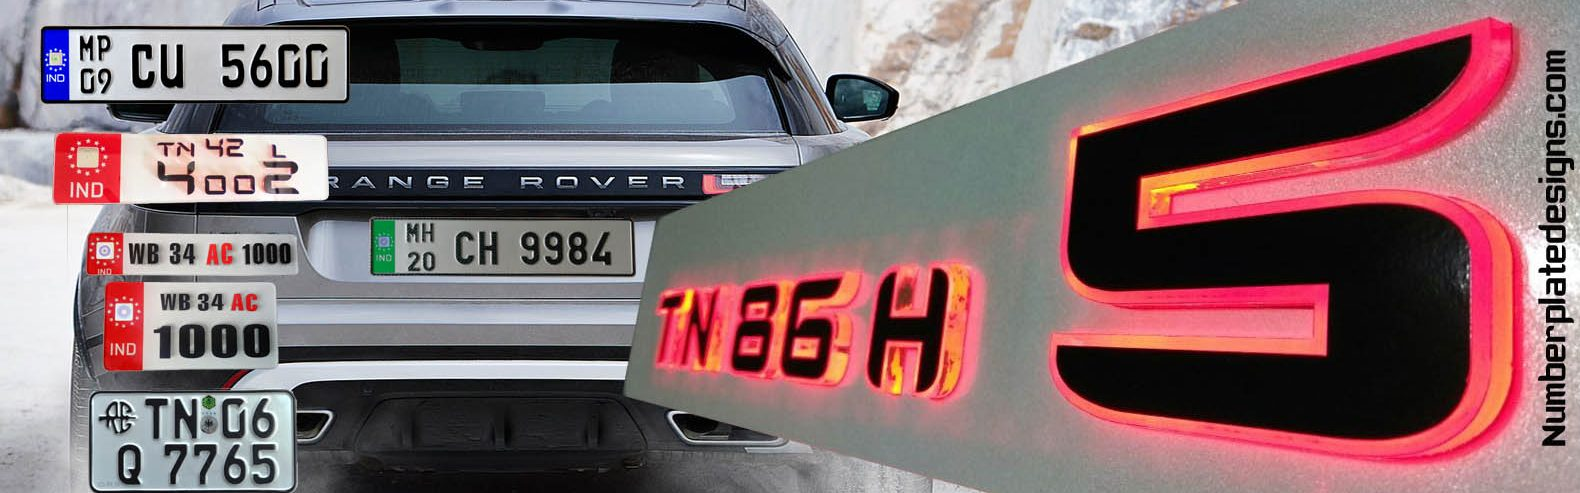number_plate: (363, 206, 645, 289)
